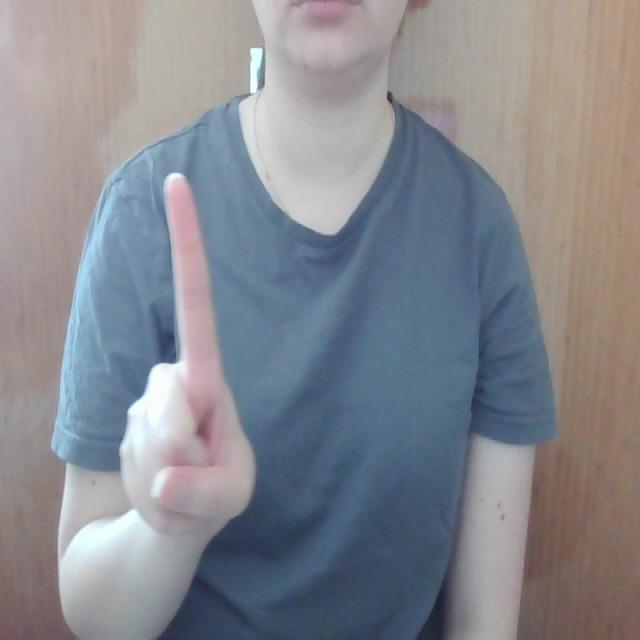Hayir: (110, 159, 267, 561)
